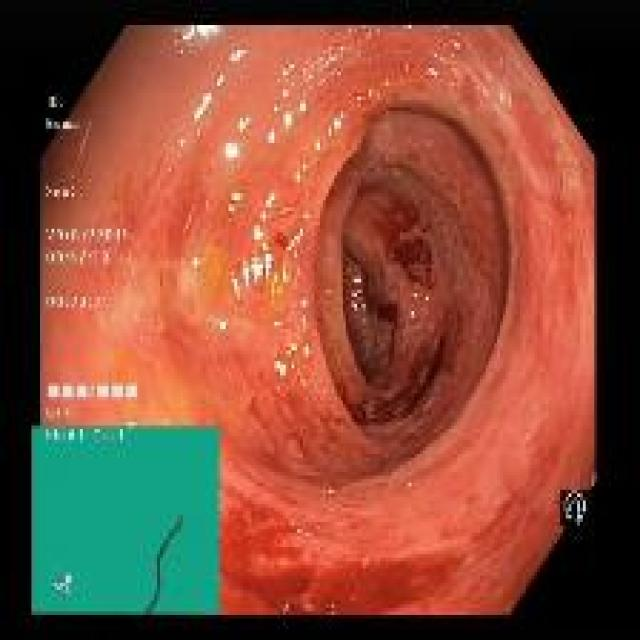ulcerative-colitis: (41, 27, 595, 614)
